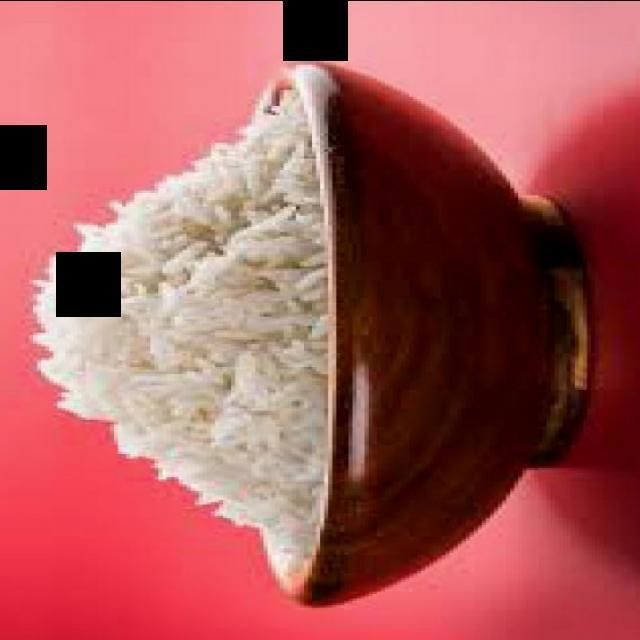Chicken -Chicken Inasal-: (35, 100, 325, 557)
